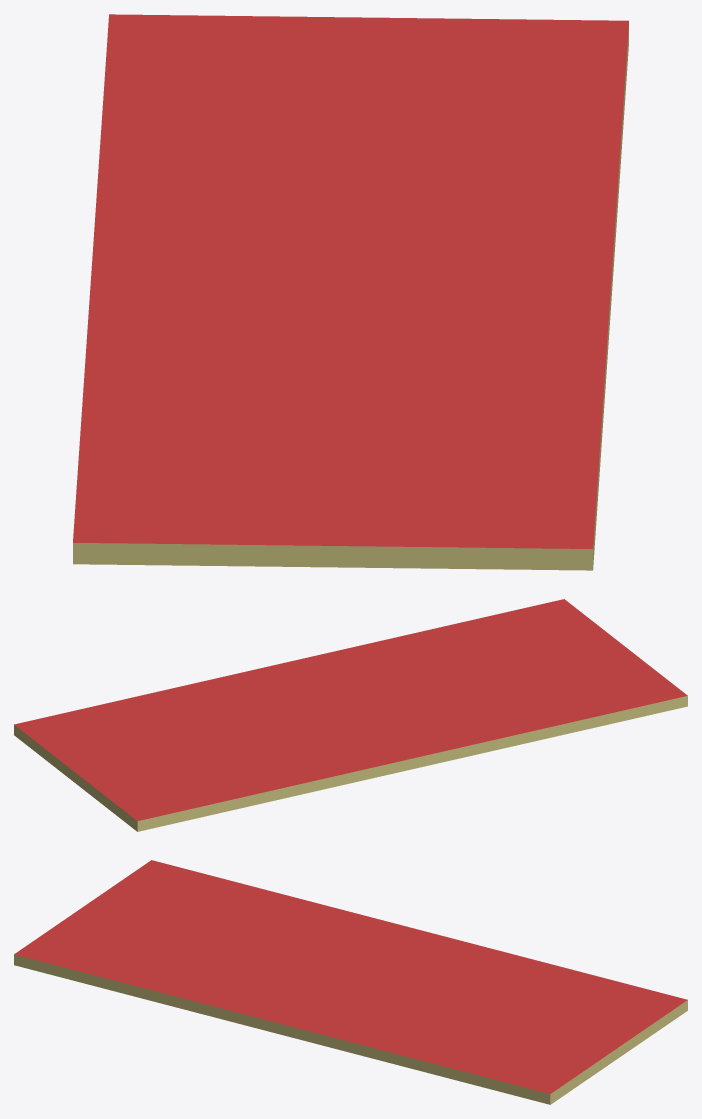
3 views of the same model, one above another, from view 1: azimuth 30°, elevation 25°; view 2: azimuth 150°, elevation 25°; view 3: azimuth 270°, elevation 25° (orthographic). The views are drawn at different scales.
Visible parts, largest first — view 1: group_3, group_4; view 2: group_3, group_4; view 3: group_3, group_4.
Boxes of the visible parts, x1,y1,x2,y2 form: group_3: (73,14,628,548); group_4: (73,25,628,570); group_3: (14,599,687,821); group_4: (14,696,687,831); group_3: (14,860,687,1093); group_4: (14,954,687,1104).
Size of the model in its own units: 4.64 by 5.65 by 0.1.
